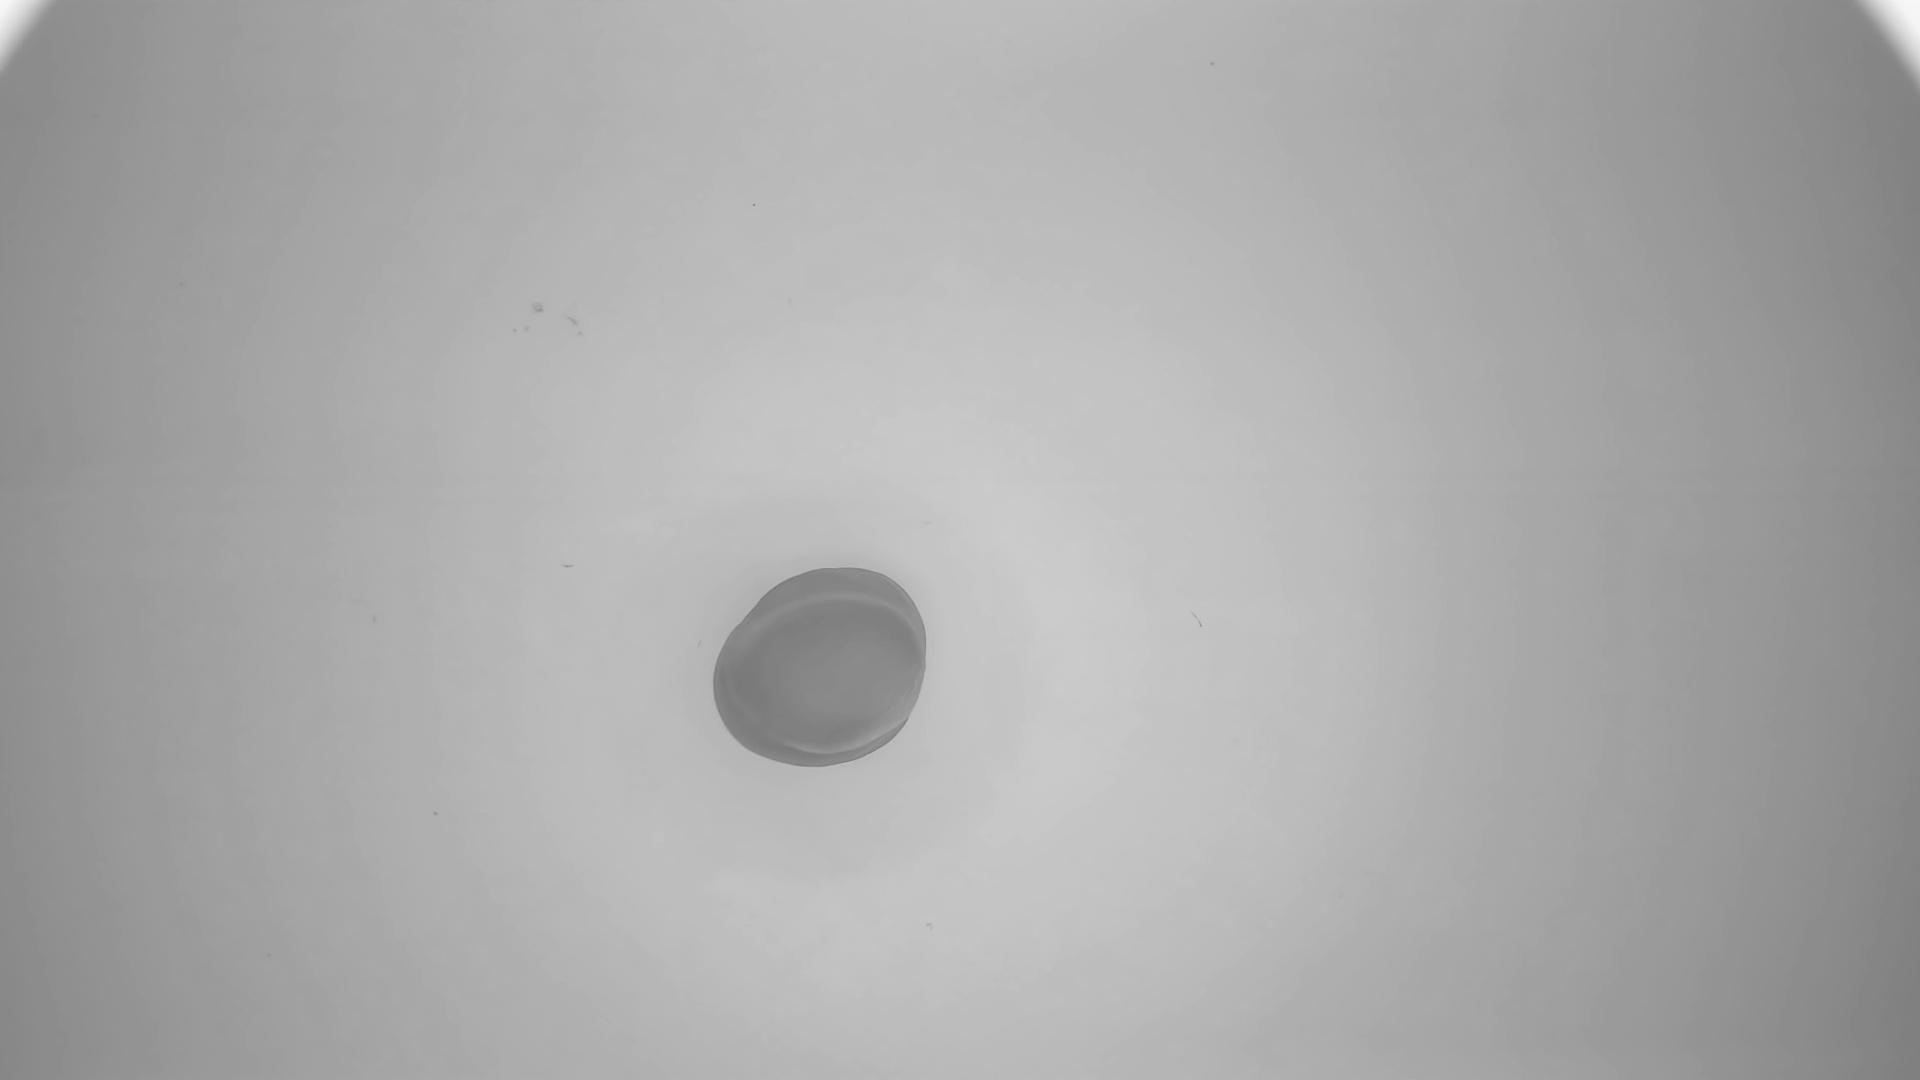abnormal: (713, 568, 934, 771)
